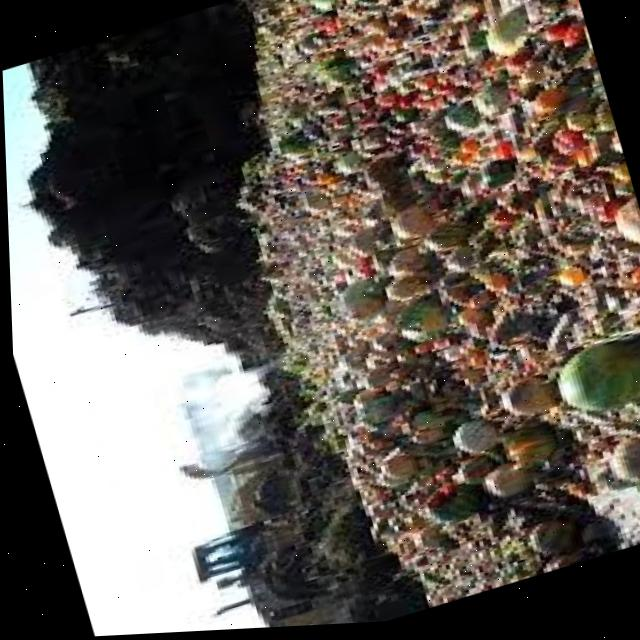Wet: (244, 0, 640, 620), (258, 86, 640, 628), (524, 320, 640, 456)
